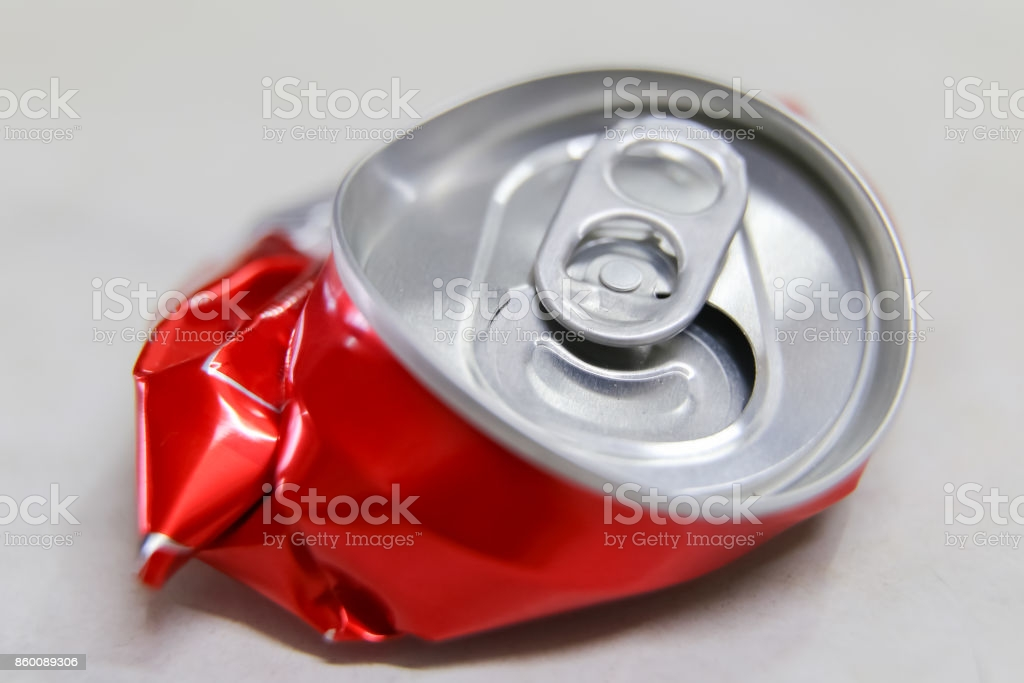can: (130, 65, 917, 644)
